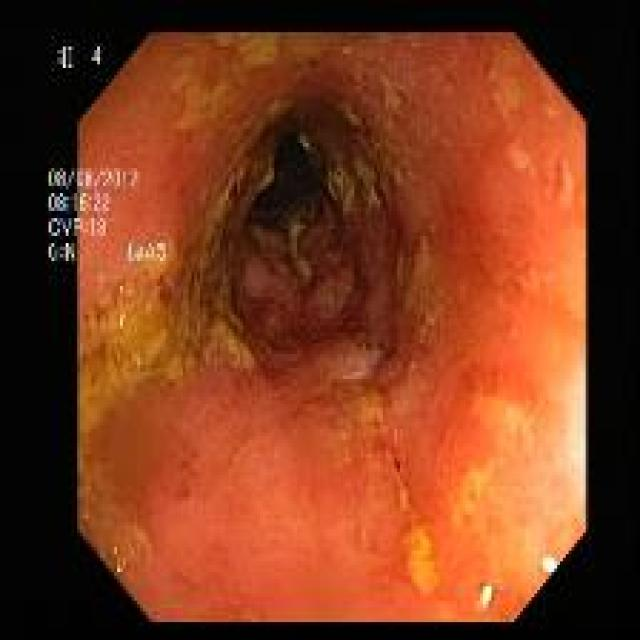ulcerative-colitis: (76, 33, 586, 621)
